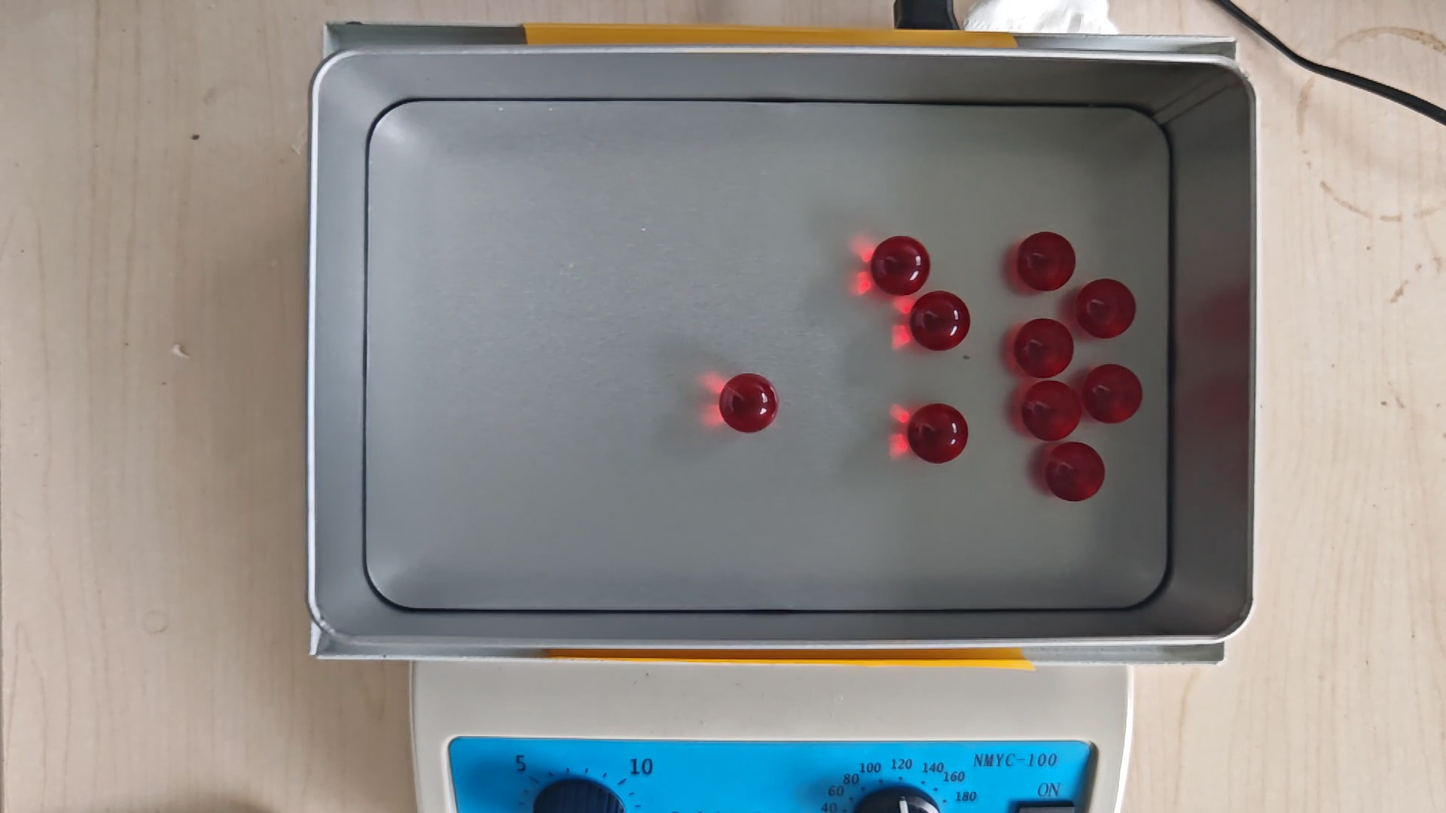ball: (1044, 441, 1105, 503), (1021, 380, 1082, 441), (908, 403, 969, 464), (911, 290, 970, 352), (1015, 317, 1074, 378), (1016, 231, 1075, 292), (871, 235, 930, 296), (1077, 278, 1136, 339), (720, 372, 778, 434), (1084, 363, 1142, 424)
container: (359, 96, 1169, 607)
